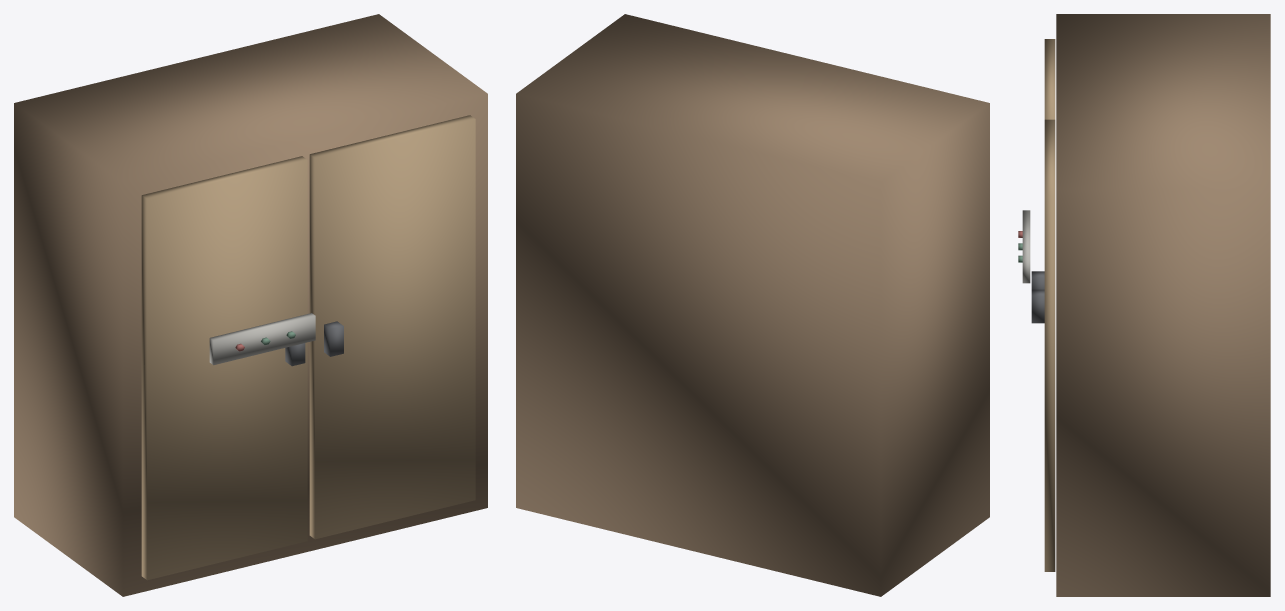
The model's file is lab_reagent_cabinet__squat.glb.
The picture shows the model from 3 angles, left to right: view 1: azimuth 30°, elevation 25°; view 2: azimuth 150°, elevation 25°; view 3: azimuth 270°, elevation 25°; orthographic projection.
Visible parts, largest first — view 1: world; view 2: world; view 3: world.
Boxes of the visible parts, left/top/right/bottom form: world: left=14, top=14, right=487, bottom=596; world: left=516, top=14, right=989, bottom=596; world: left=1018, top=14, right=1270, bottom=596.
Size of the model in its own units: 1.04 by 1.13 by 0.6356.
